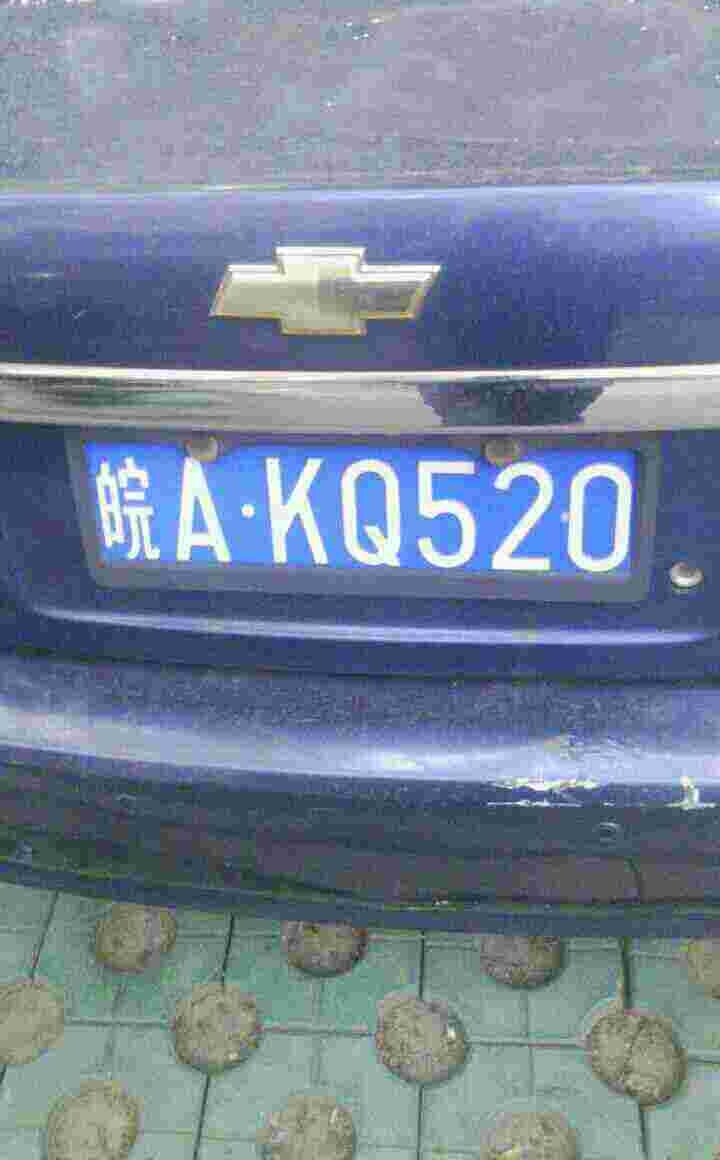car_blue: (72, 420, 655, 601)
